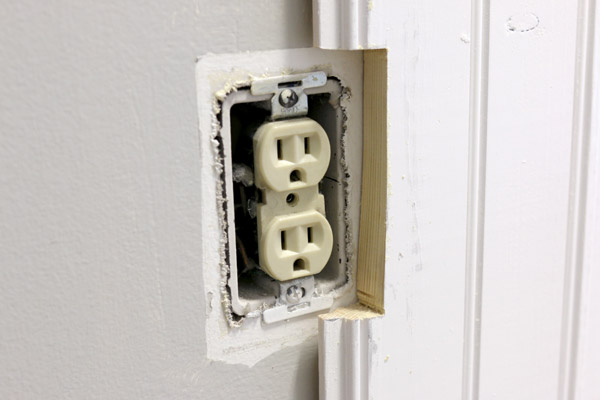outlet: (269, 135, 322, 187), (274, 222, 323, 275)
